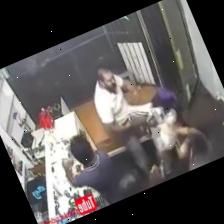person: (93, 69, 149, 176), (62, 135, 119, 204), (157, 110, 196, 174), (180, 131, 215, 170)
